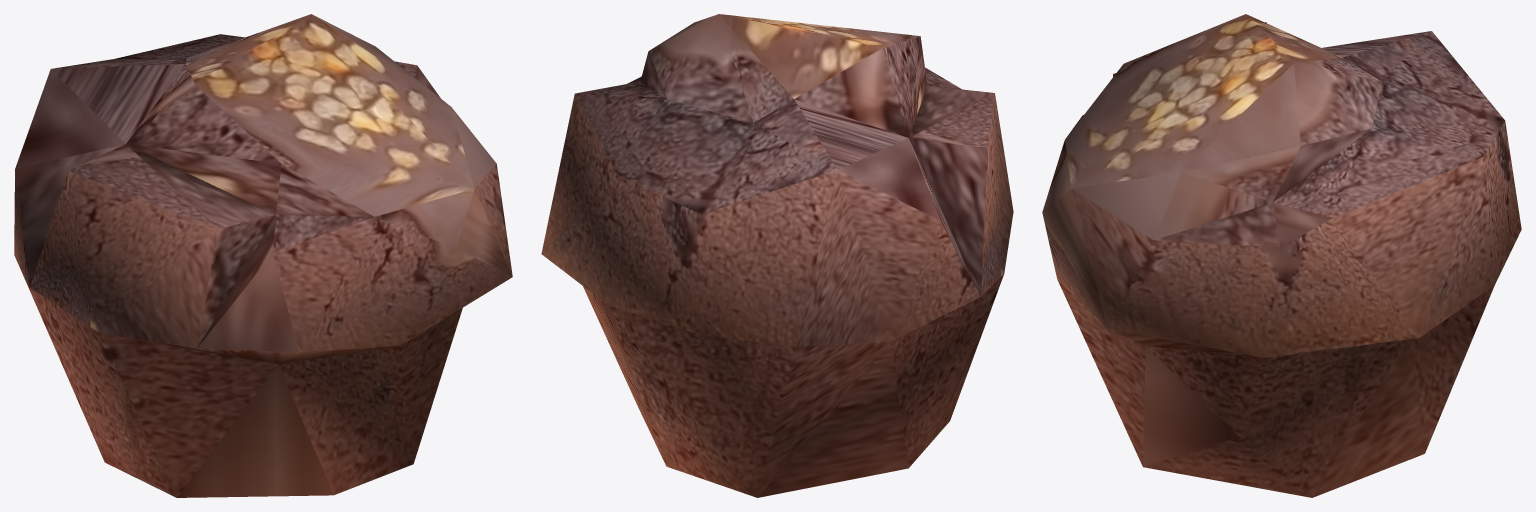
Rendered from muffin_90.obj.
The picture shows the model from 3 angles, left to right: view 1: azimuth 30°, elevation 25°; view 2: azimuth 150°, elevation 25°; view 3: azimuth 270°, elevation 25°; orthographic projection. The views are drawn at different scales.
Size of the model in its own units: 14.03 by 13.12 by 14.25.
Materials: 1 (1 with a texture image).
